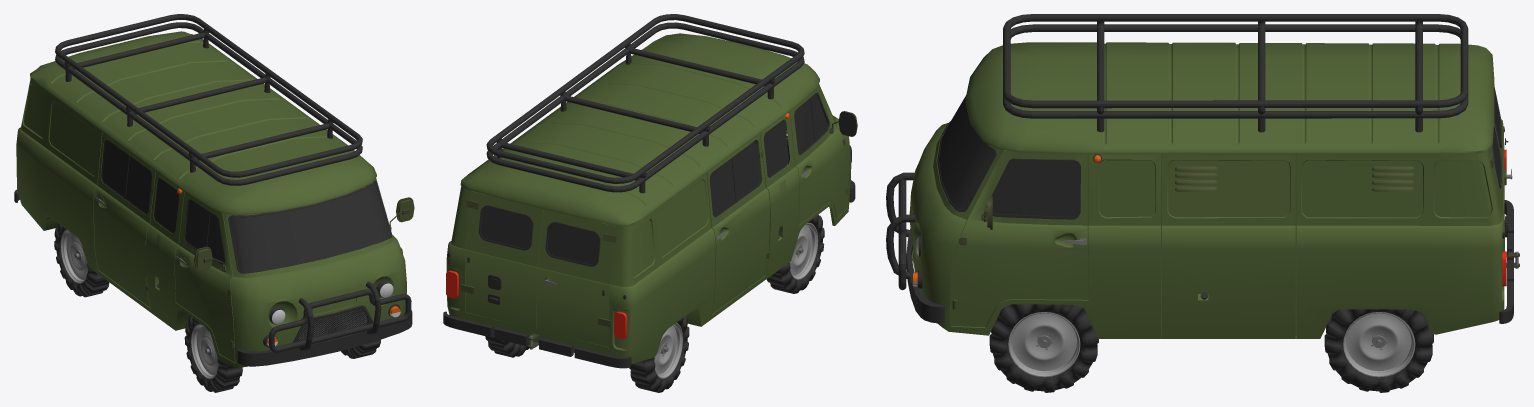
File: buhanka.fbx
The picture shows the model from 3 angles, left to right: view 1: azimuth 30°, elevation 25°; view 2: azimuth 150°, elevation 25°; view 3: azimuth 270°, elevation 25°; orthographic projection. The views are drawn at different scales.
Parts seen in each view (by area): view 1: green_Plane.002, black.kangaroo, black.window, black.extras, greydiski.001_Plane.018, deepblack.reshetka, darkgrey2.main, green2_Plane.013, darkgreen.extras, white_Plane.028; view 2: green_Plane.002, black.kangaroo, black.window, black.extras, greydiski.001_Plane.018, red.002_Plane.027, green2_Plane.013; view 3: green_Plane.002, black.kangaroo, black.extras, black.window, greydiski.001_Plane.018, green2_Plane.013, darkgrey.extras.
Part boxes in pixels (box(x1,y1,x2,y2)): green_Plane.002: box(16, 31, 406, 368); black.kangaroo: box(55, 14, 411, 352); black.window: box(102, 141, 391, 271); black.extras: box(14, 139, 412, 392); greydiski.001_Plane.018: box(60, 229, 218, 379); deepblack.reshetka: box(299, 308, 366, 340); darkgrey2.main: box(299, 308, 367, 340); green2_Plane.013: box(145, 188, 414, 348); darkgreen.extras: box(145, 187, 414, 295); white_Plane.028: box(267, 283, 400, 346); green_Plane.002: box(446, 33, 851, 363); black.kangaroo: box(486, 14, 851, 193); black.window: box(480, 95, 856, 264); black.extras: box(443, 92, 855, 392); greydiski.001_Plane.018: box(654, 223, 818, 378); red.002_Plane.027: box(446, 270, 626, 339); green2_Plane.013: box(461, 126, 848, 327); green_Plane.002: box(909, 42, 1504, 338); black.kangaroo: box(886, 14, 1468, 290); black.extras: box(906, 86, 1513, 392); black.window: box(938, 91, 1500, 216); greydiski.001_Plane.018: box(1008, 312, 1415, 377); green2_Plane.013: box(952, 84, 1506, 309); darkgrey.extras: box(1036, 169, 1518, 349).
Size of the model in its own units: 226 by 220 by 440.
